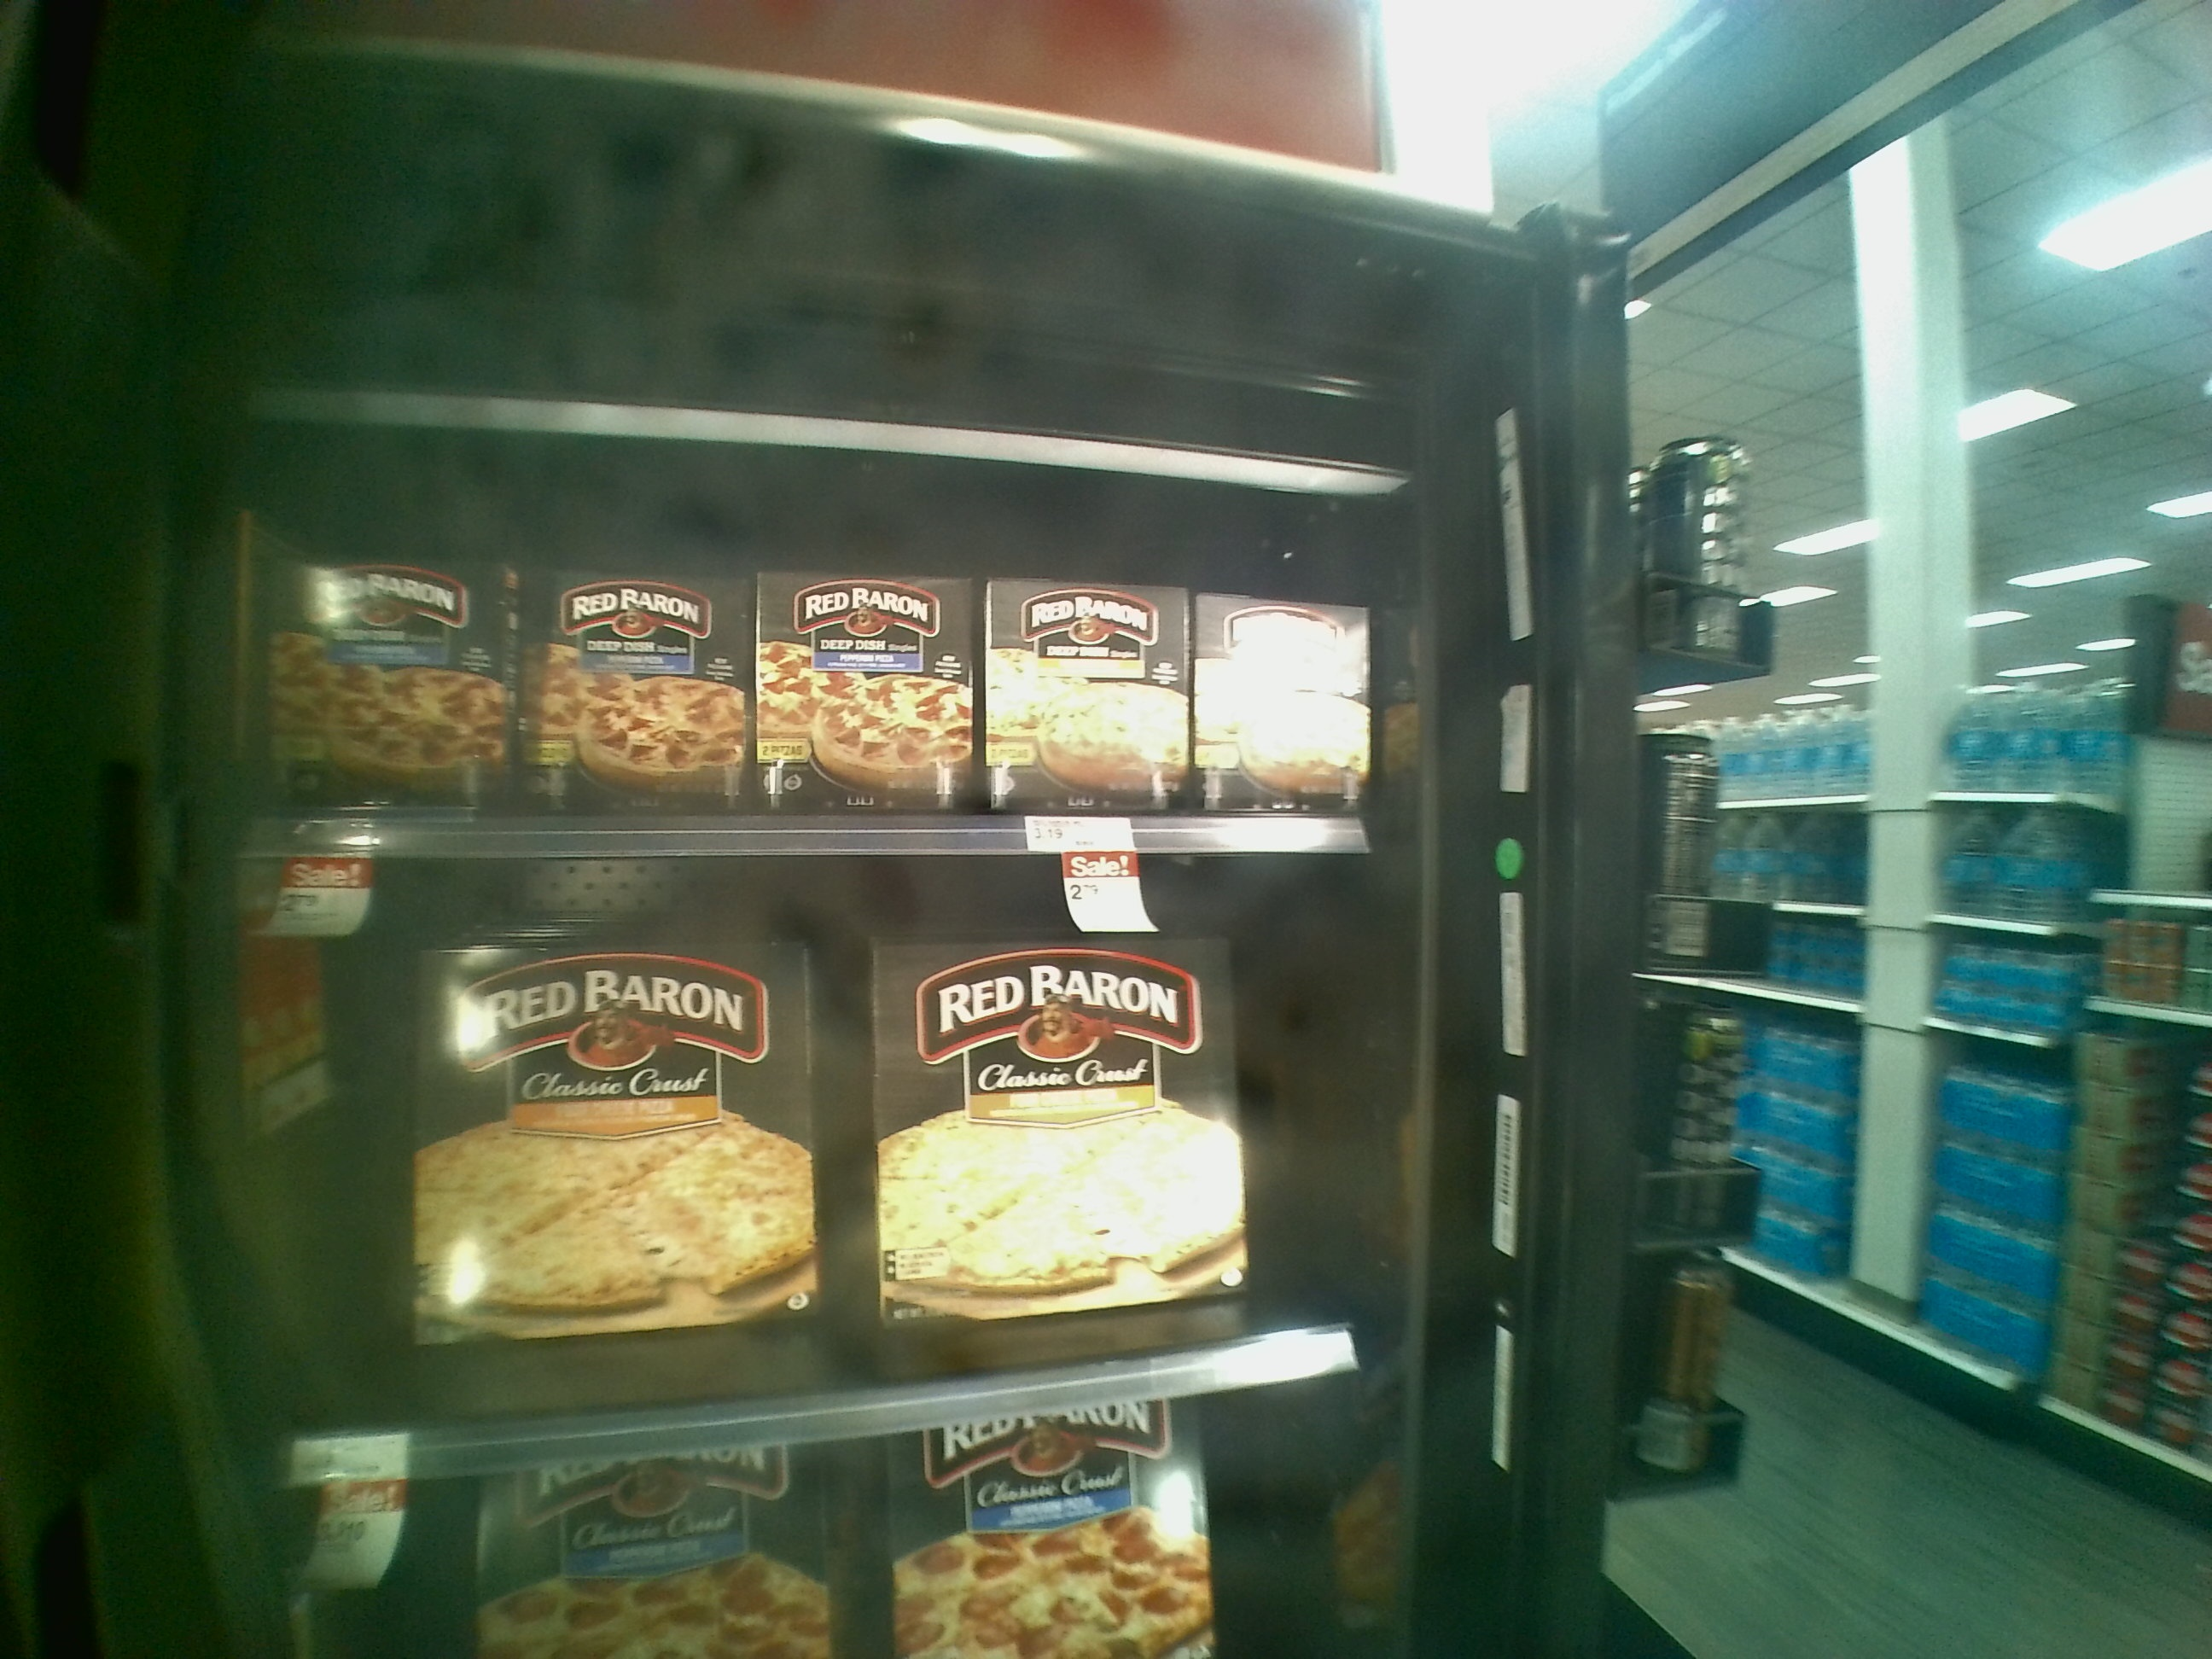shelf: (263, 852, 1386, 1452), (225, 464, 1402, 859)
